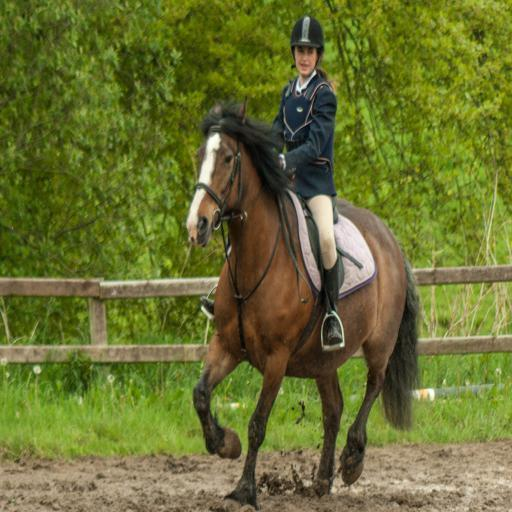horse: (186, 94, 425, 512)
